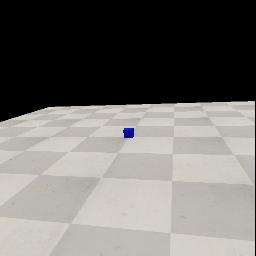box: (123, 128, 134, 138)
